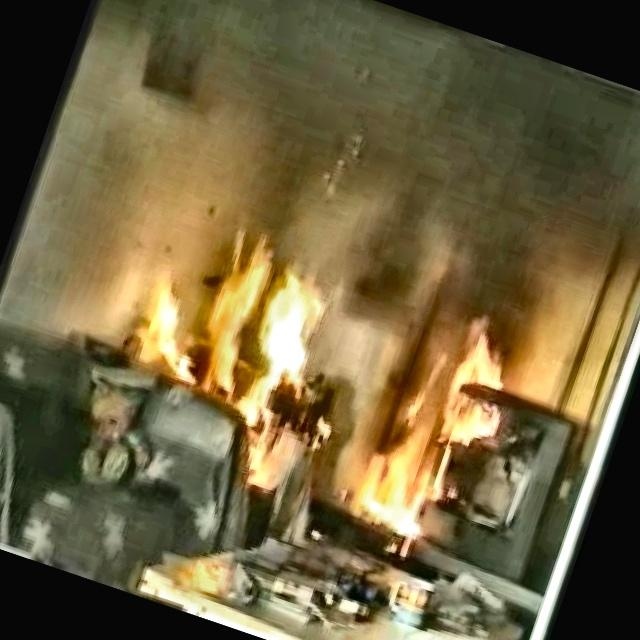fire: (100, 182, 546, 556)
